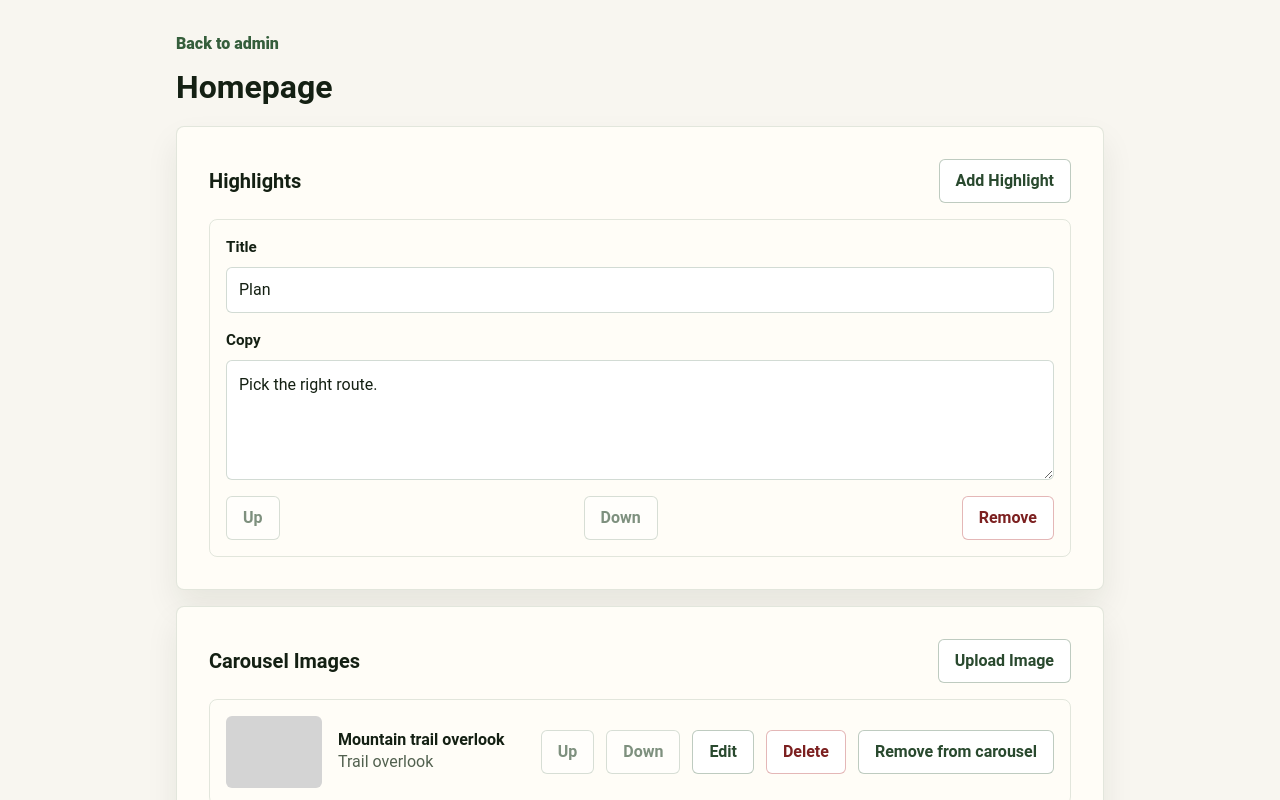
Scenario: AdminHomepageView › updates image metadata in the carousel and available image state
Click the button "Edit": x=723, y=752 [692, 730, 754, 774]
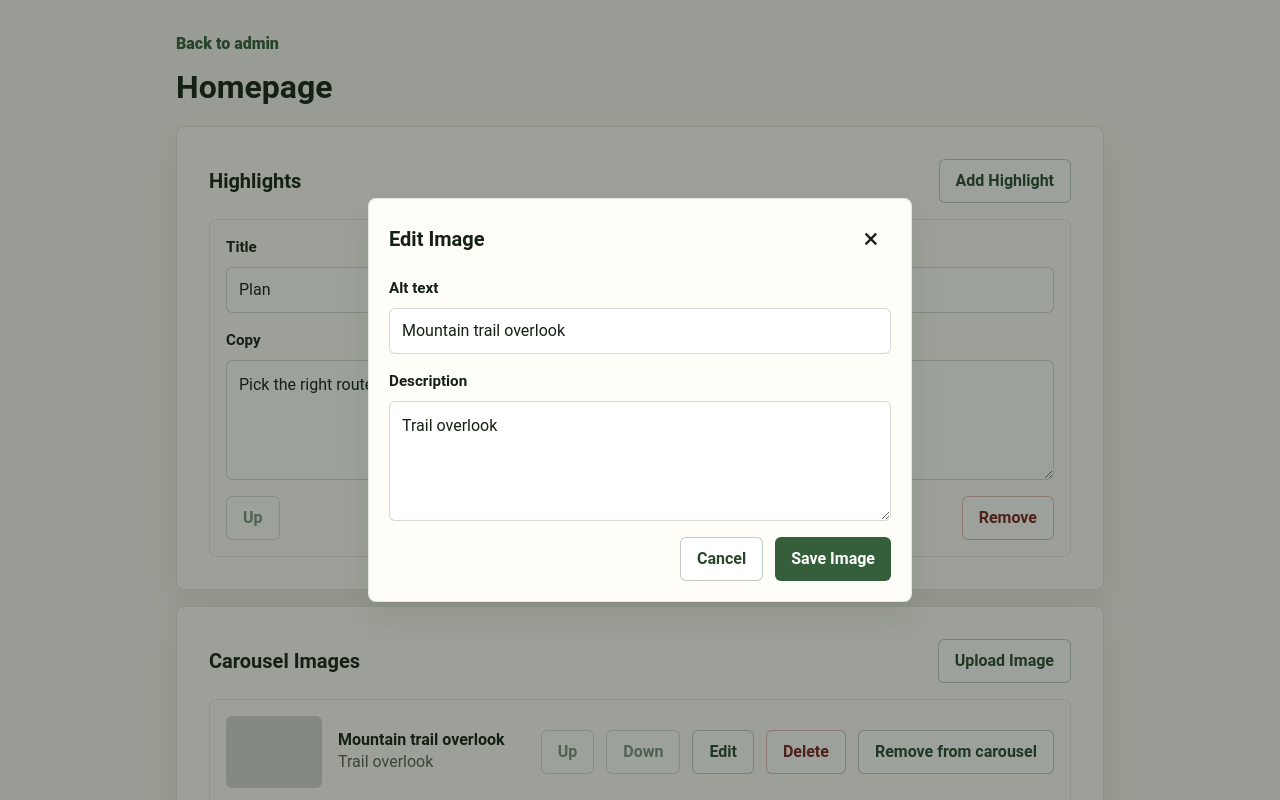
Replace the text in the field with id "edit-homepage-image-alt" with "Updated trail alt text": x=640, y=331 [389, 308, 891, 354]
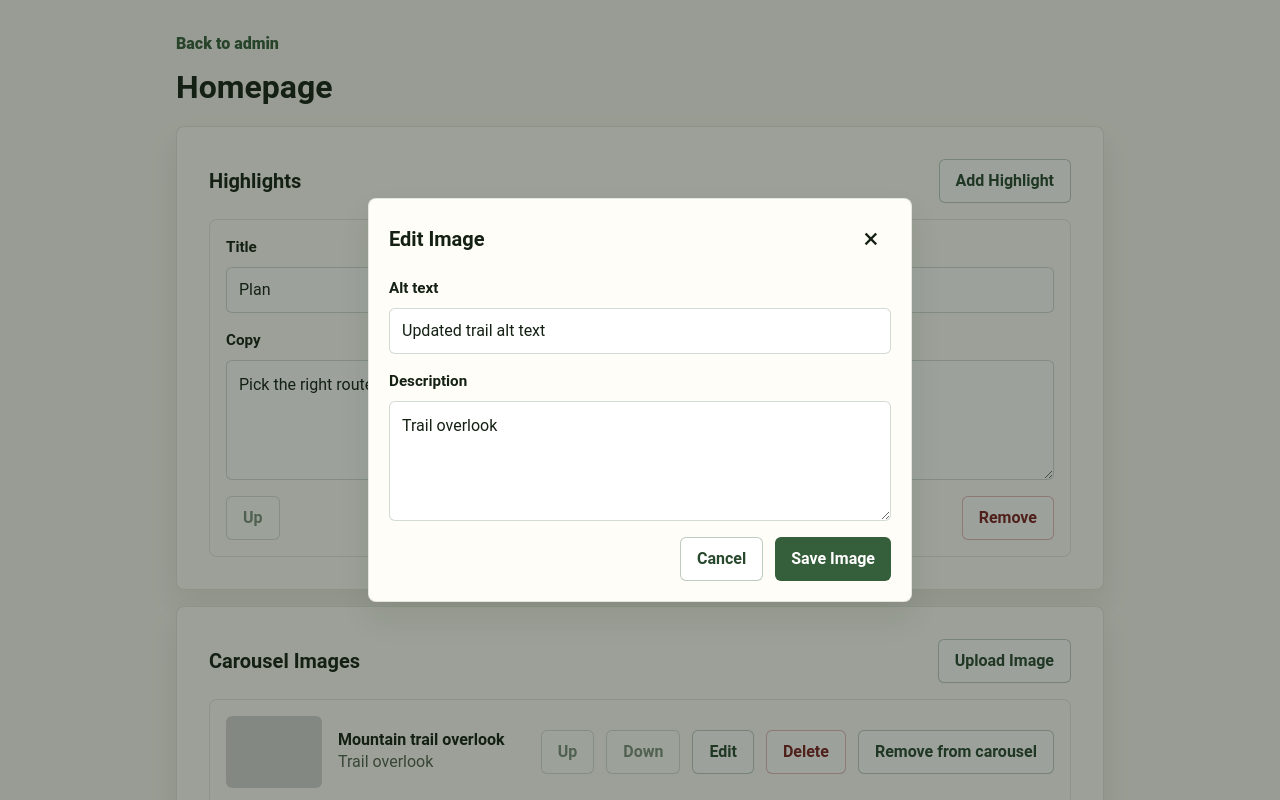
Replace the text in the text box with id "edit-homepage-image-description" with "Updated trail description": x=640, y=461 [389, 401, 891, 521]
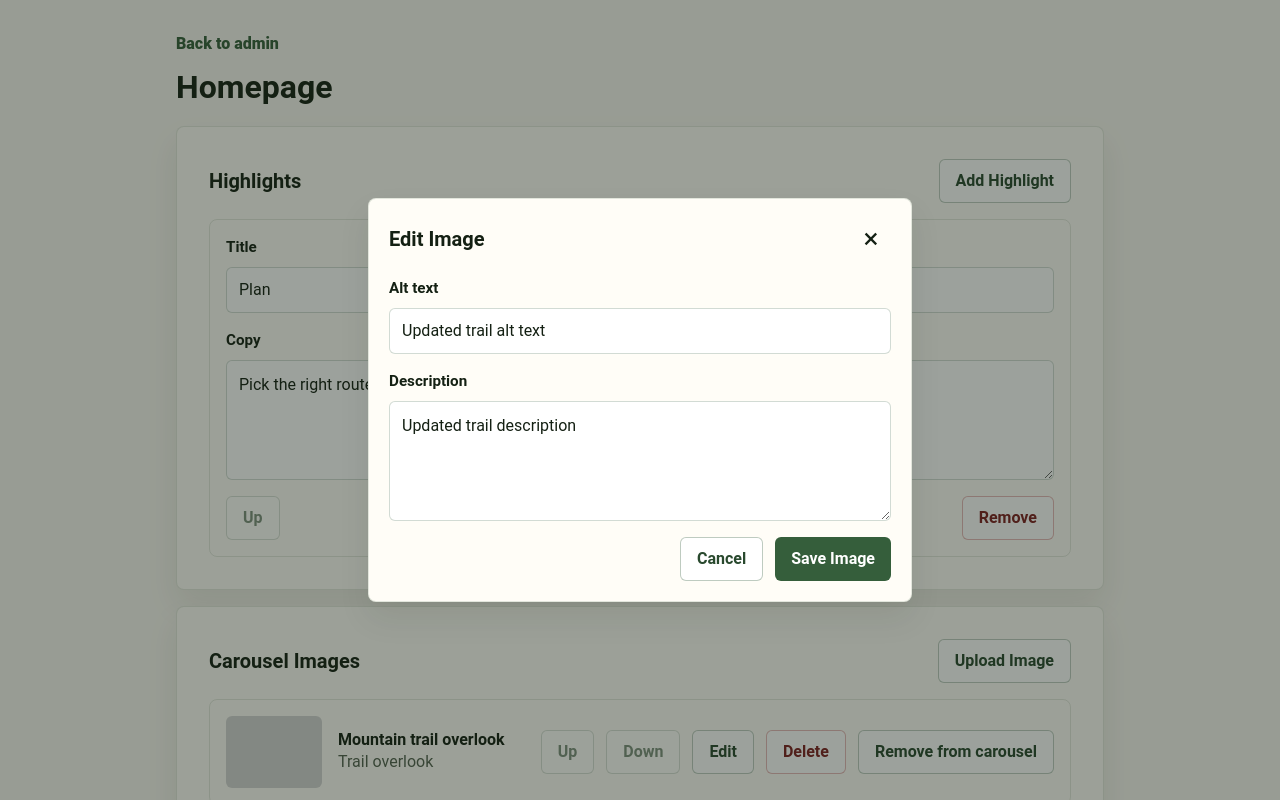
Submit the form with class "upload-form", box [389, 277, 891, 581]
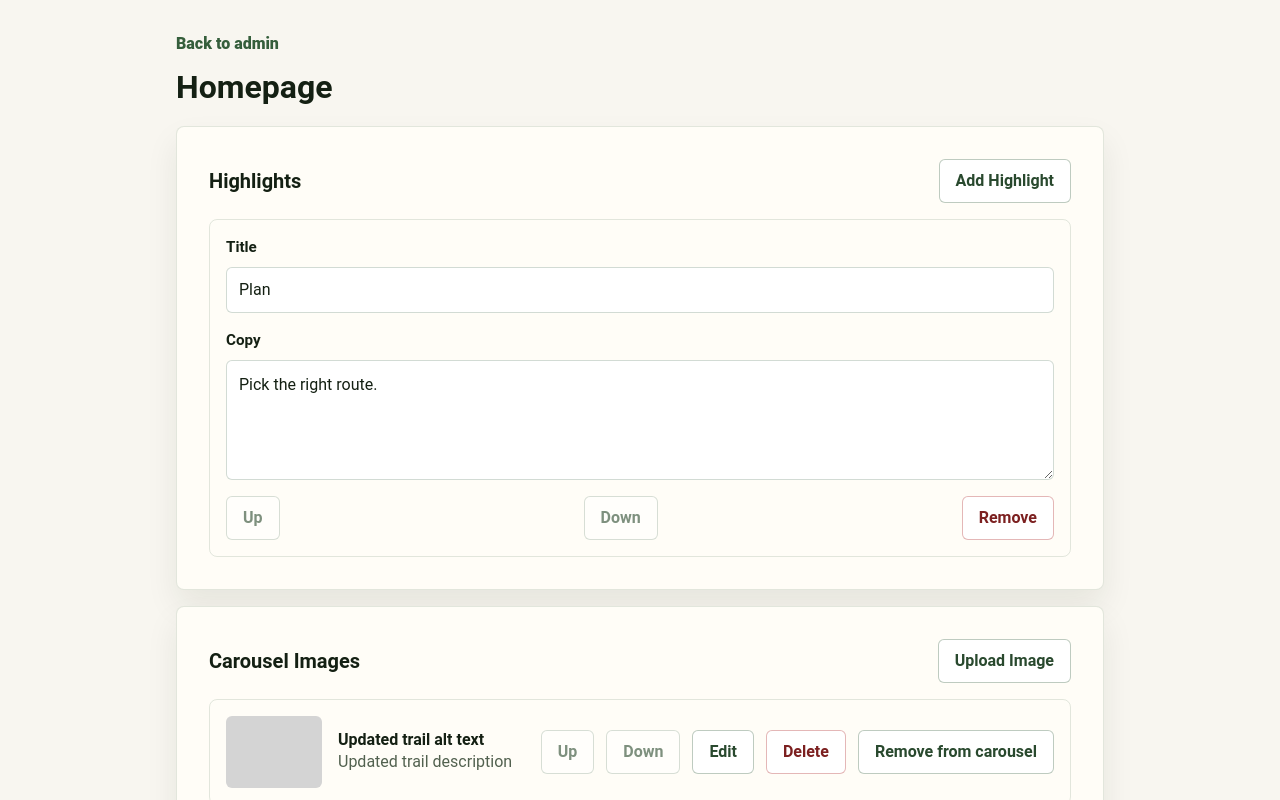
Check: the text "Updated trail alt text" is shown, box [338, 730, 484, 749]
Check: the text "Updated trail description" is shown, box [338, 750, 525, 774]
